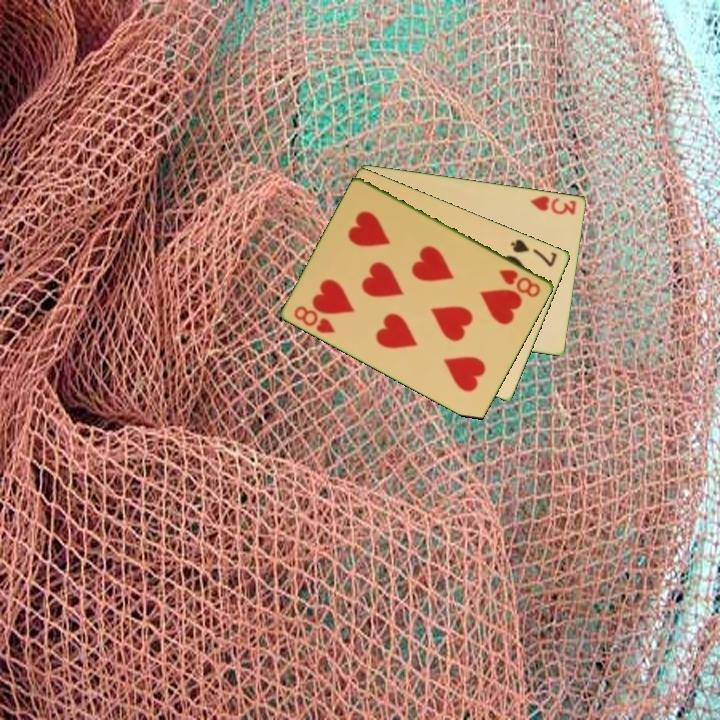3h: (527, 192, 579, 217)
7s: (507, 235, 560, 270)
8h: (495, 266, 544, 300), (291, 302, 338, 336)
